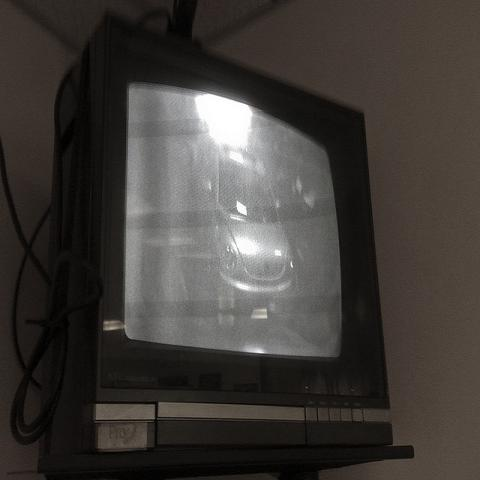car: (180, 133, 306, 315)
